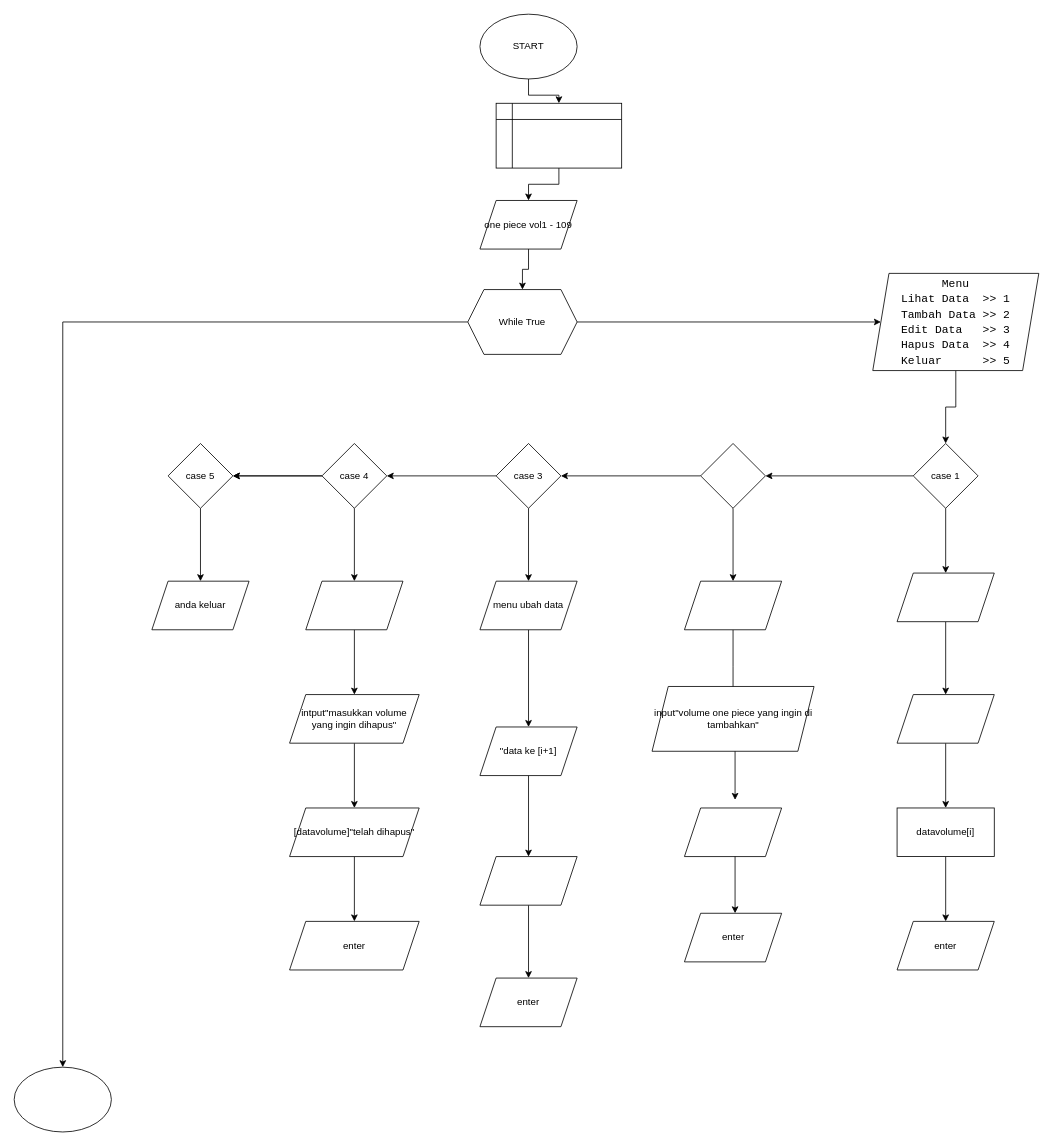
The diagram is 1053 pixels wide and 1146 high, and some of its shapes have lost their labels. The centre of each missing label's shape, as x and y in pixels:
[datavolume]"telah di tambahkan": point 733,832
case 2: point 732,475
datavolume,pilih: point 558,135
end: point 62,1099
menu hapus data: point 354,605
menu tambah data: point 733,605
nama : [datavolume]: point 528,880
Pilih menu: point 945,597
unput menu: point 945,718
